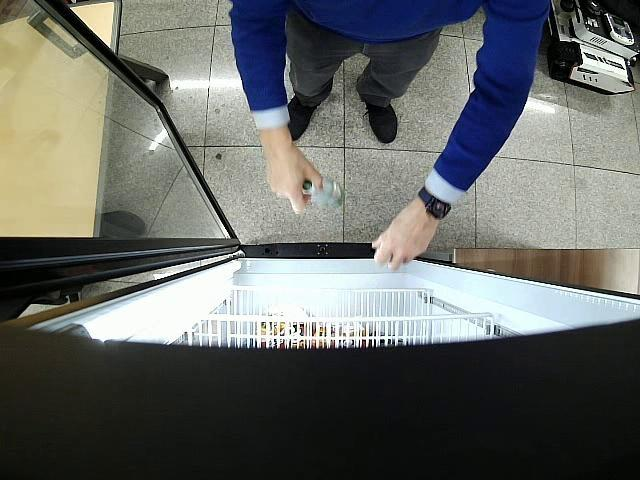18_trevi: (302, 176, 342, 210)
